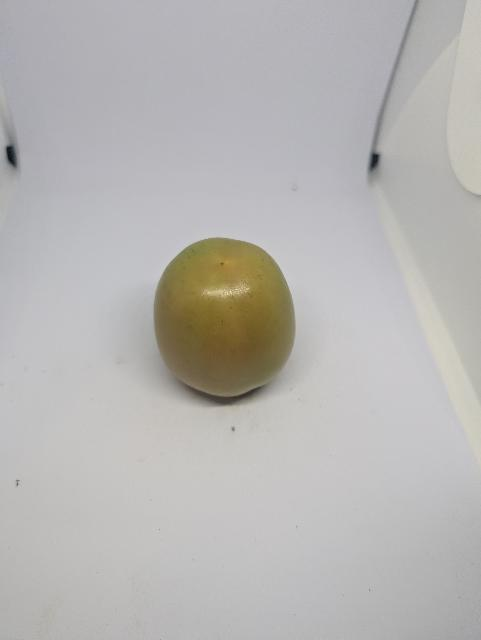breaker: (145, 230, 307, 411)
